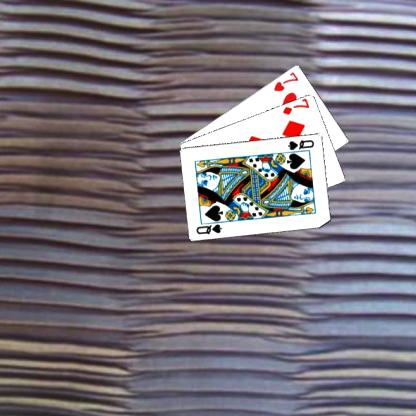7D: (280, 96, 310, 115)
7H: (271, 69, 300, 92)
QS: (285, 137, 316, 151), (194, 221, 223, 235)
